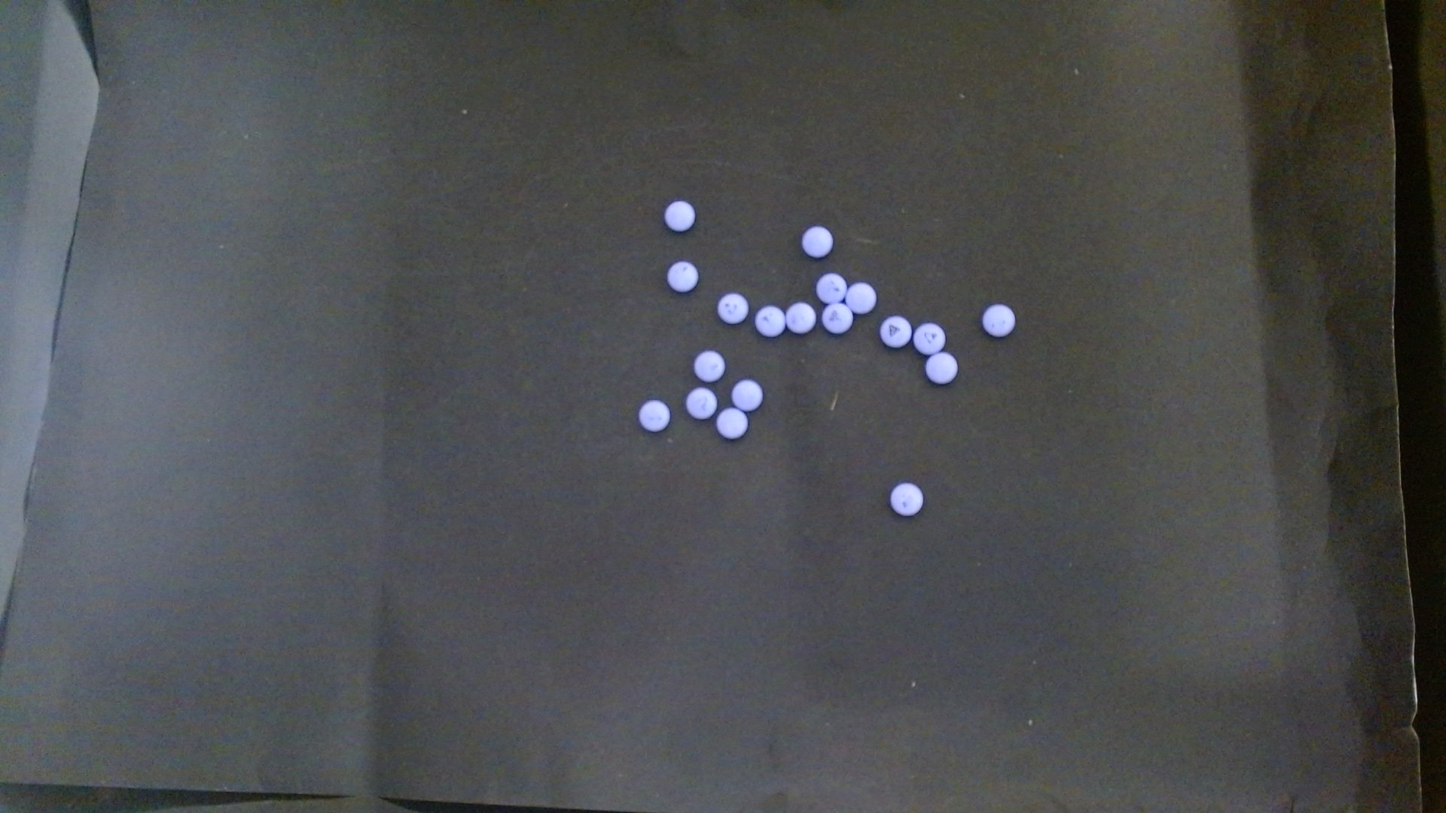Circle: (889, 482, 923, 516), (715, 406, 748, 440), (981, 303, 1014, 336), (731, 378, 764, 411), (637, 399, 669, 432), (926, 351, 957, 384), (914, 321, 945, 354), (801, 225, 832, 257), (664, 199, 695, 231), (694, 349, 725, 381), (879, 315, 910, 347), (816, 273, 847, 304), (822, 302, 853, 333), (686, 387, 716, 419), (668, 260, 698, 292), (717, 292, 747, 324), (846, 281, 875, 312), (755, 306, 784, 336), (786, 302, 814, 333)
